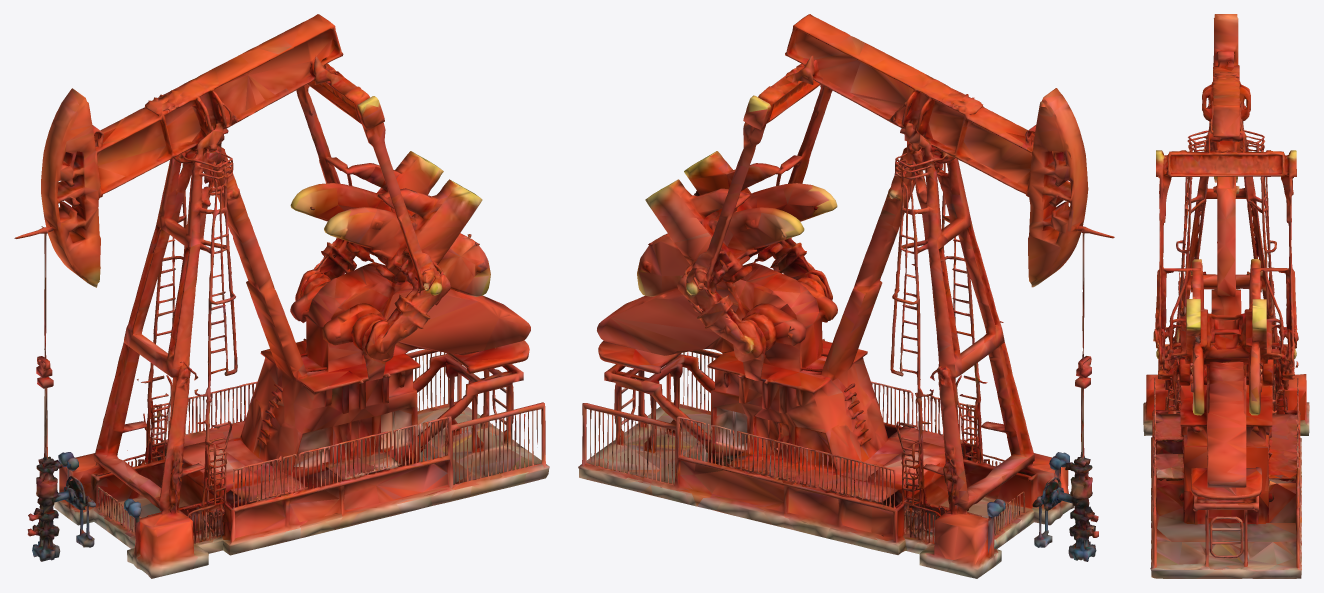
The model's file is pumpjack.glb.
3 renders of one model, left to right at view 1: azimuth 30°, elevation 25°; view 2: azimuth 150°, elevation 25°; view 3: azimuth 270°, elevation 25°, orthographic. The views are drawn at different scales.
Parts seen in each view (by area): view 1: body, beam, crank, pitman; view 2: body, beam, crank, pitman; view 3: body, crank, beam, pitman.
Boxes of the visible parts, x1,y1,x2,y2 form: body: [14, 100, 549, 578]; beam: [30, 14, 378, 287]; crank: [290, 151, 511, 357]; pitman: [296, 79, 433, 282]; body: [578, 103, 1114, 578]; beam: [748, 14, 1095, 289]; crank: [619, 151, 837, 339]; pitman: [695, 80, 832, 282]; body: [1143, 108, 1309, 578]; crank: [1155, 259, 1298, 458]; beam: [1156, 14, 1296, 182]; pitman: [1153, 159, 1298, 341].
Size of the model in its own units: 1.9 by 1.68 by 0.6361.
Materials: 1 (1 with a texture image).
